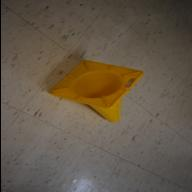cone: (48, 60, 144, 122)
